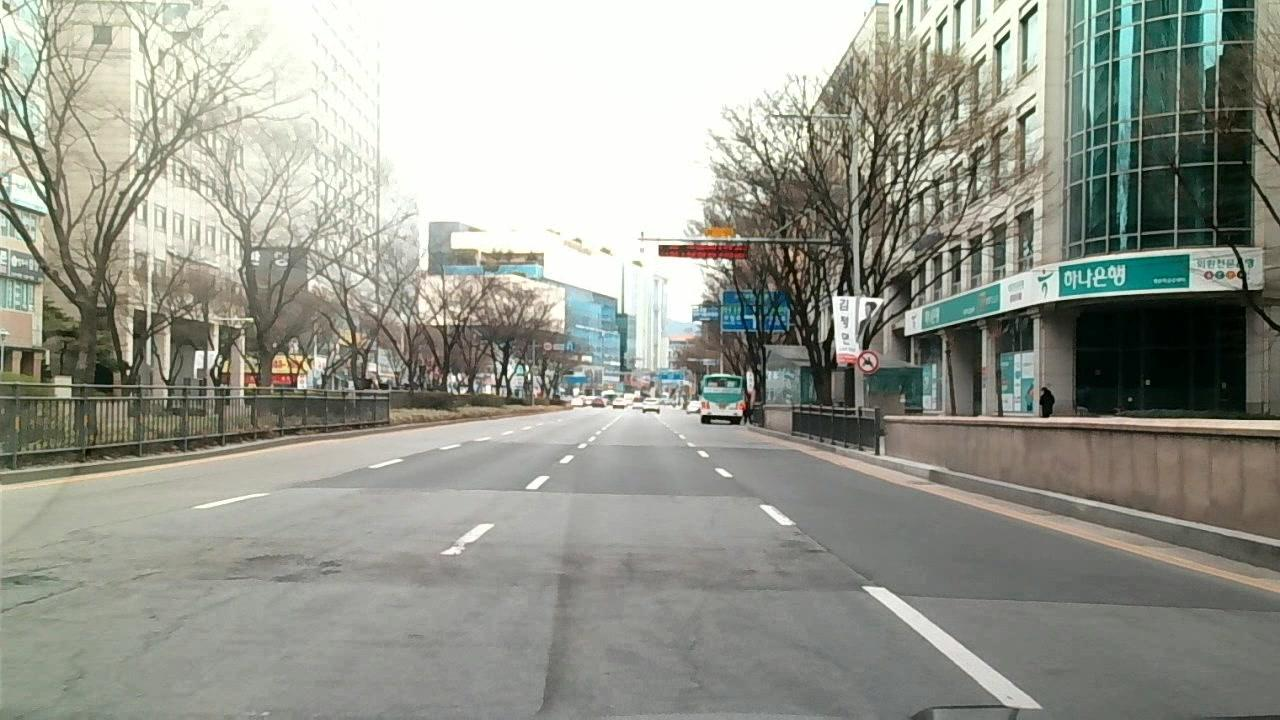banner: (7, 550, 71, 606), (221, 550, 304, 581), (279, 559, 348, 586)
